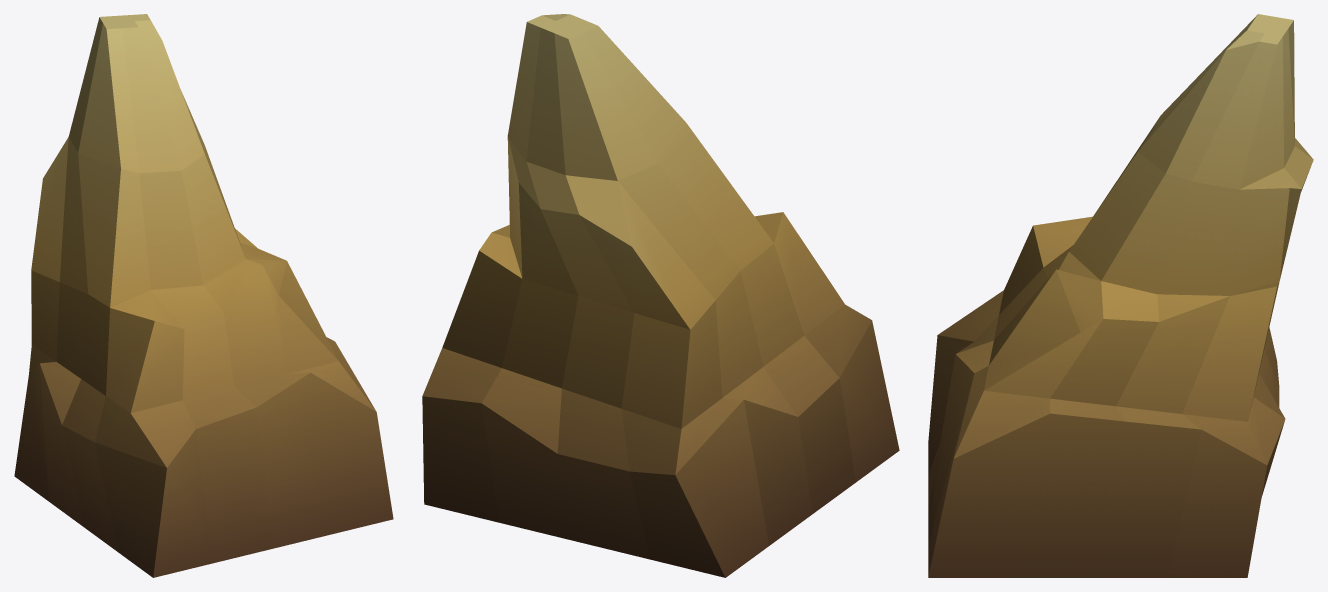
The model's file is RockSkill.fbx.
3 views of the same model, side by side, from view 1: azimuth 30°, elevation 25°; view 2: azimuth 150°, elevation 25°; view 3: azimuth 270°, elevation 25° (orthographic). The views are drawn at different scales.
Parts seen in each view (by area): view 1: Cube; view 2: Cube; view 3: Cube.
Boxes of the visible parts, x1,y1,x2,y2 form: Cube: [14, 14, 393, 577]; Cube: [422, 14, 899, 577]; Cube: [928, 14, 1313, 577].
Size of the model in its own units: 204 by 334 by 241.
